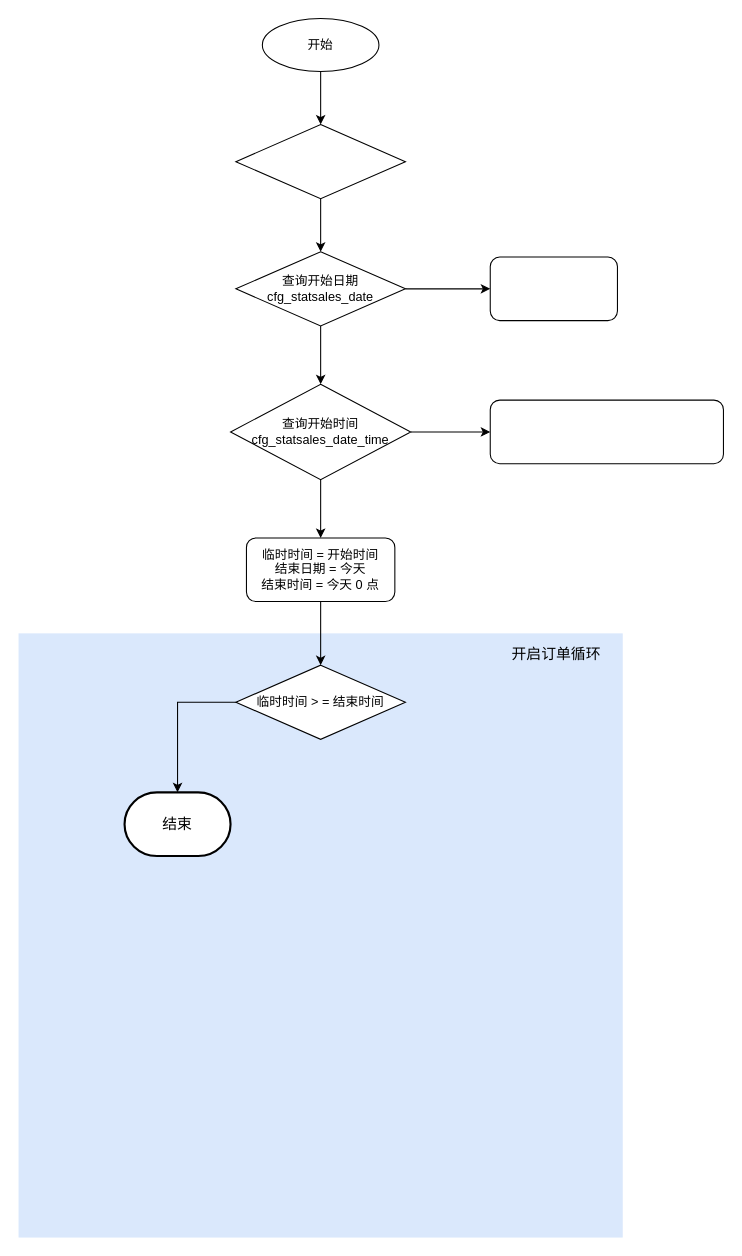
Image size: 742x1256. Some labels were removed from this diagram. The shapes that lost their labels are listed below. From the top down, each one's centre as x and y in pixels, then its label:
At point 320,161: "查询配置是否开启 cfg_statsales_date".
At point 553,288: "开始日期 = 10天前".
At point 606,431: "开始时间 = 开始日期的 0 点".
